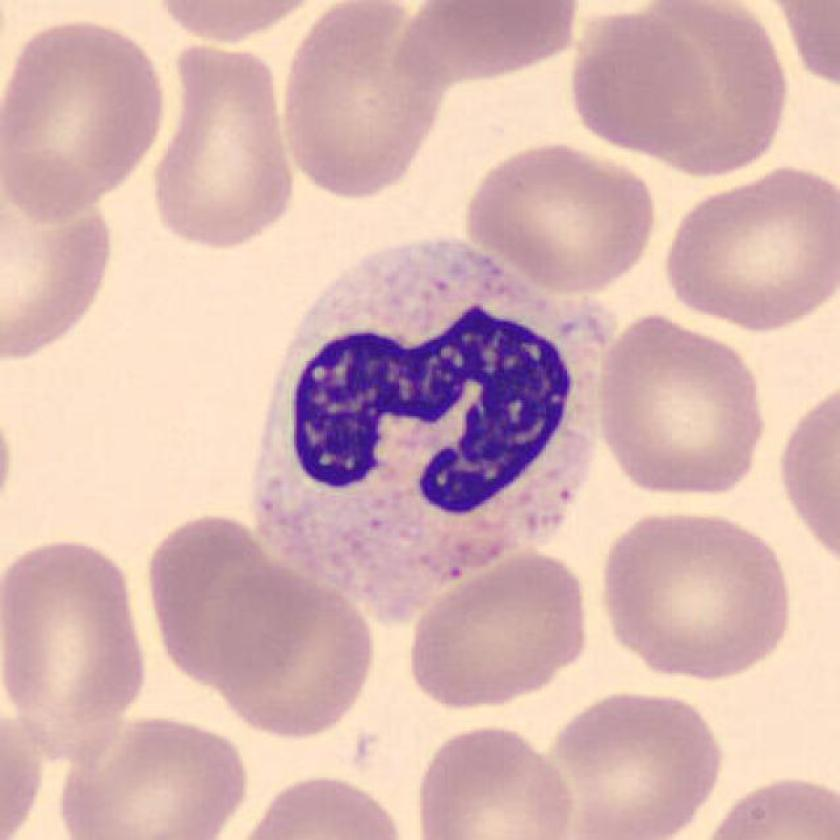neutrophil: (252, 236, 617, 624)
